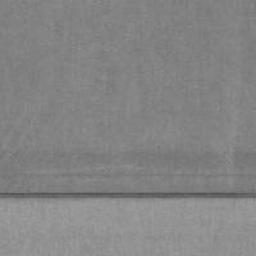Welding line: (0, 191, 256, 200)
